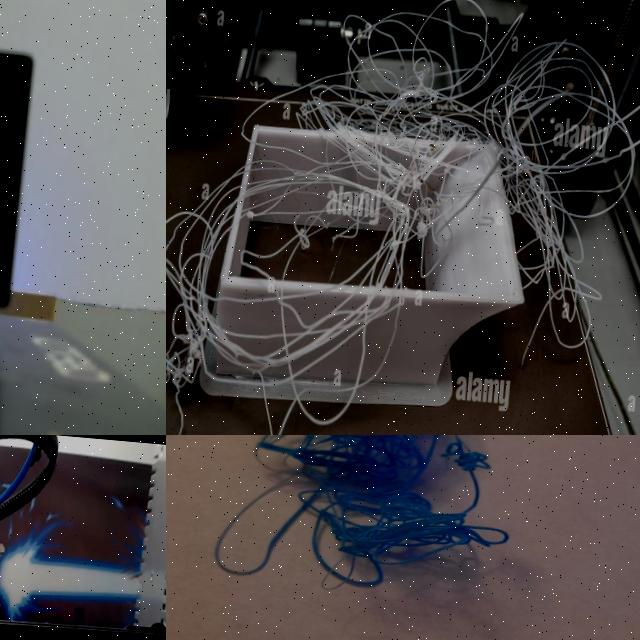spaghetti: (166, 0, 640, 435), (195, 435, 538, 613)
